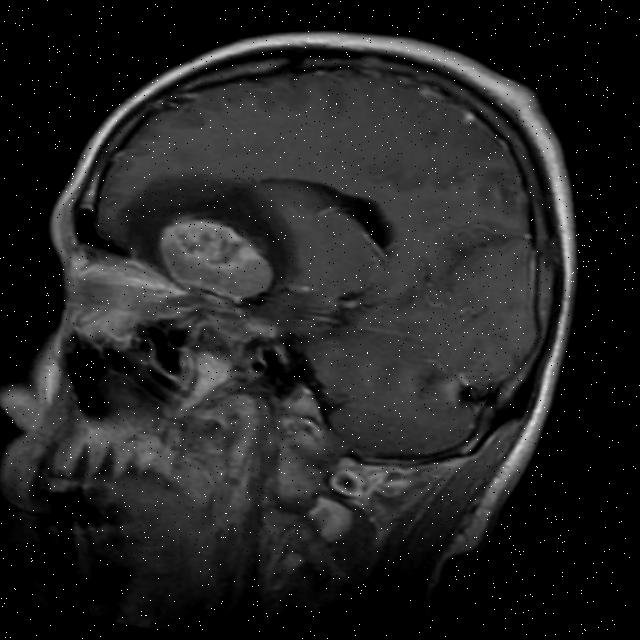Meningioma: (150, 208, 282, 307)
